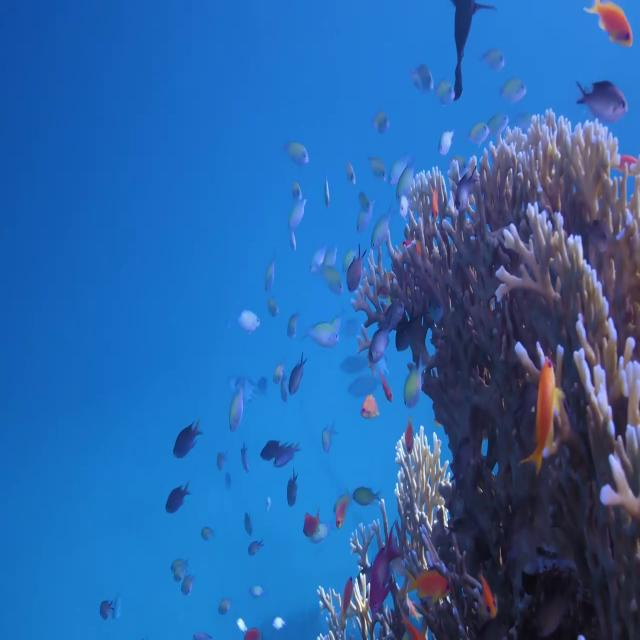fish: (521, 354, 569, 488), (582, 0, 640, 59), (566, 80, 634, 128), (402, 551, 458, 598), (166, 417, 208, 460), (467, 575, 501, 628), (158, 473, 194, 518), (349, 476, 383, 512), (288, 352, 311, 404), (274, 442, 306, 467)
